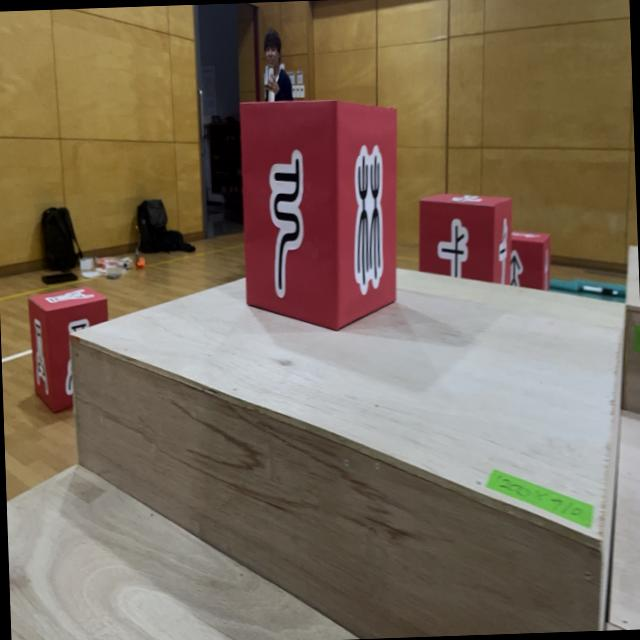12: (510, 248, 524, 286)
2: (348, 144, 386, 297)
4: (267, 147, 308, 300)
8: (32, 316, 50, 398), (44, 287, 94, 304)
9: (436, 217, 472, 279), (495, 216, 510, 284)
fighter: (237, 96, 403, 334), (28, 283, 112, 415), (416, 191, 514, 287), (508, 229, 553, 290)
